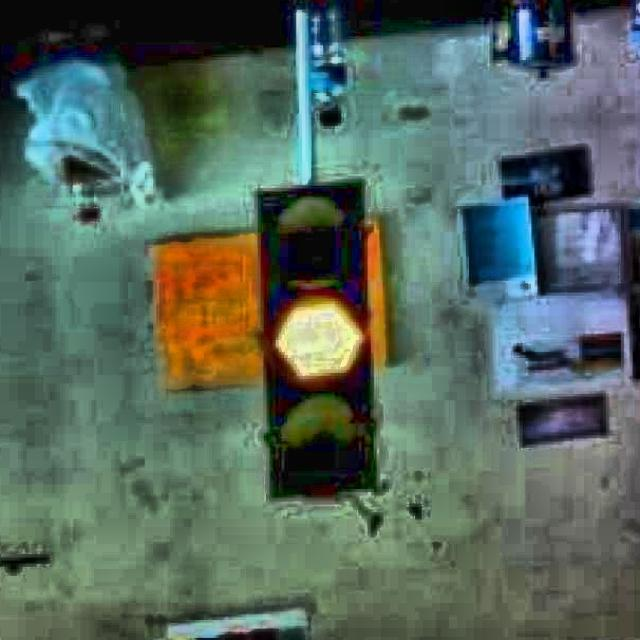yellow: (259, 176, 369, 503)
